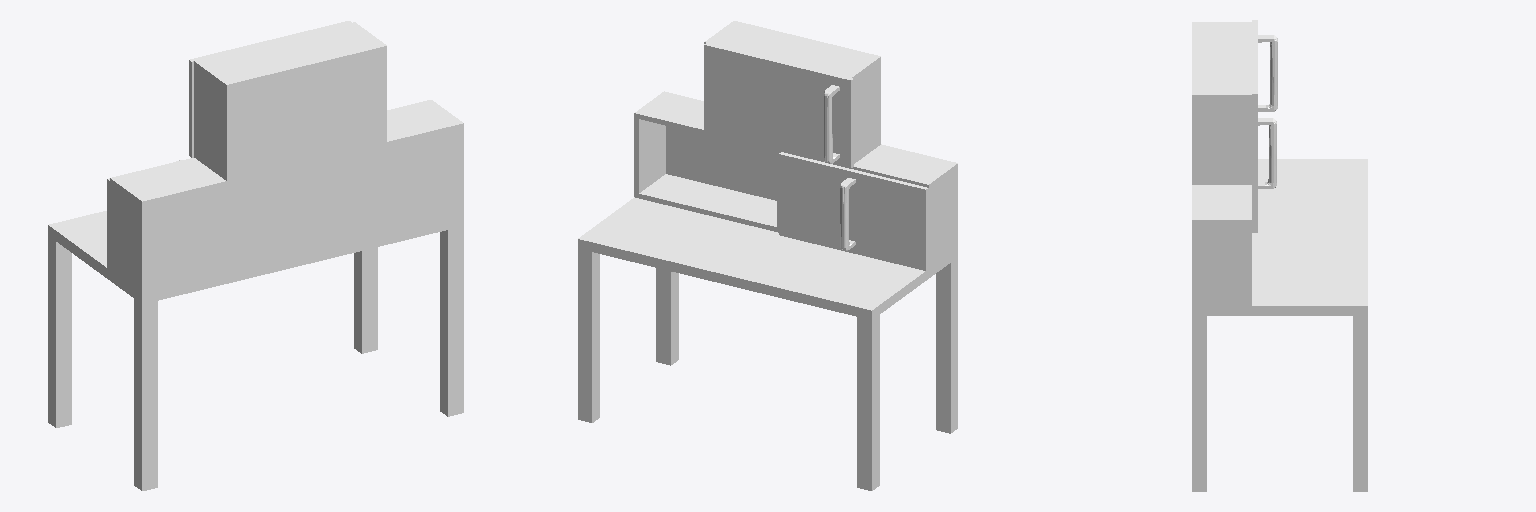
URDF robot description (table):
<?xml version="1.0" ?>
<robot name="table">
<!-- The table -->
 <link name="baseLink">
   <contact>
     <lateral_friction value="0.5"/>
   </contact>
   <inertial>
     <origin rpy="0 0 0" xyz="0.425016 0.151115 0.615396"/>
      <mass value="0.0"/>
      <inertia ixx="0.003734" ixy="0.000094" ixz="-0.000492" iyy="0.006571" iyz="0.000494" izz="0.004455"/>
   </inertial>
   <visual>
     <origin rpy="0 0 0" xyz="0 0 0"/>
     <geometry>
       <mesh filename="table.obj" scale="1.0 1.0 1.0"/>
     </geometry>
      <material name="white">
       <color rgba="1 1 1 1"/>
     </material>
   </visual>
   <collision>
     <origin rpy="0 0 0" xyz="0 0 0"/>
     <geometry>
       <mesh filename="table_vhacd2.obj" scale="1.0 1.0 1.0"/>
     </geometry>
   </collision>
 </link>

<!-- The top left shelf -->
  <link name="top_left_table">
   <contact>
     <lateral_friction value="0.5"/>
   </contact>
   <inertial>
     <origin rpy="0 0 0" xyz="1.055672 0.164149 1.203366"/>
      <mass value="1.0"/>
      <inertia ixx="0.000758" ixy="-0.000002" ixz="0.000002" iyy="0.001665" iyz="-0.000003" izz="0.001678"/>
   </inertial>
   <visual>
     <origin rpy="0 0 0" xyz="0 0 0"/>
     <geometry>
       <mesh filename="top_left_shelf.obj" scale="1.0 1.0 1.0"/>
     </geometry>
      <material name="white">
       <color rgba="1 1 1 1"/>
     </material>
   </visual>
   <collision>
     <origin rpy="0 0 0" xyz="0 0 0"/>
     <geometry>
       <mesh filename="top_left_shelf_vhacd2.obj" scale="1.0 1.0 1.0"/>
     </geometry>
   </collision>
 </link>


<!-- Top left door-->
  <link name="leftTopDoor">
   <contact>
     <lateral_friction value="0.5"/>
   </contact>
   <inertial>
     <origin rpy="0 0 0" xyz="0.599518 0.211815 0.960029"/>
      <mass value="1.0"/>
      <inertia ixx="0.000006" ixy="0.000000" ixz="-0.000000" iyy="0.000029" iyz="0.000000" izz="0.000024"/>
   </inertial>
   <visual>
     <origin rpy="0 0 0" xyz="-1.26 -0.2 0"/>
     <geometry>
       <mesh filename="top_left_door_round_big_handle.obj" scale="1.0 1.0 1.0"/>
     </geometry>
      <material name="white">
       <color rgba="1 1 1 1"/>
     </material>
   </visual>
   <collision>
     <origin rpy="0 0 0" xyz="-1.26 -0.2 0"/>
     <geometry>
       <mesh filename="top_left_door_round_big_handle_vhacd2.obj" scale="1.0 1.0 1.0"/>
     </geometry>
   </collision>
 </link>

<!-- Revolute link between the top left door and the top left shelf -->
   <joint name="top_left_door_joint" type="revolute">
    <origin rpy="0 0 0" xyz="0.95 0.2 0"/>
    <parent link="baseLink"/>
    <child link="leftTopDoor"/>
    <dynamics damping="1.0" friction="0.5"/>
    <limit effort="500" lower="0.0" upper="1.7453292519943" velocity="3.0"/>
    <axis xyz="0 0 -1"/>
  </joint>

<!-- bottom right shelf -->
   <link name="bottom_right_table">
   <contact>
     <lateral_friction value="0.5"/>
   </contact>
   <inertial>
     <origin rpy="0 0 0" xyz="0.355063 0.161921 0.899693"/>
      <mass value="1.0"/>
      <inertia ixx="0.000715" ixy="-0.000003" ixz="0.000000" iyy="0.001669" iyz="0.000001" izz="0.001690"/>
   </inertial>
   <visual>
     <origin rpy="0 0 0" xyz="0 0 0"/>
     <geometry>
       <mesh filename="bottom_right_shelf.obj" scale="1.0 1.0 1.0"/>
     </geometry>
      <material name="white">
       <color rgba="1 1 1 1"/>
     </material>
   </visual>
   <collision>
     <origin rpy="0 0 0" xyz="0 0 0"/>
     <geometry>
       <mesh filename="bottom_right_shelf_vhacd2.obj" scale="1.0 1.0 1.0"/>
     </geometry>
   </collision>
 </link>

<!-- sliding door -->
  <link name="slideDoor">
   <contact>
     <lateral_friction value="0.5"/>
   </contact>
   <inertial>
     <origin rpy="0 0 0" xyz="0.205081 0.211543 0.749504"/>
      <mass value="1.0"/>
      <inertia ixx="0.000008" ixy="-0.000000" ixz="0.000000" iyy="0.000036" iyz="0.000000" izz="0.000028"/>
   </inertial>
   <visual>
     <origin rpy="0 0 0" xyz="0 0 0"/>
     <geometry>
       <mesh filename="sliding_door_round_big_handle.obj" scale="1.0 1.0 1.0"/>
     </geometry>
      <material name="white">
       <color rgba="1 1 1 1"/>
     </material>
   </visual>
   <collision>
     <origin rpy="0 0 0" xyz="0 0 0"/>
     <geometry>
       <mesh filename="sliding_door_round_big_handle_vhacd2.obj" scale="1.0 1.0 1.0"/>
     </geometry>
   </collision>
 </link>

<!-- bottom left shelf-->
 <link name="bottom_left_table">
   <contact>
     <lateral_friction value="0.5"/>
   </contact>
   <inertial>
     <origin rpy="0 0 0" xyz="1.055605 0.164137 0.903363"/>
      <mass value="1.0"/>
      <inertia ixx="0.000758" ixy="-0.000002" ixz="0.000002" iyy="0.001665" iyz="-0.000003" izz="0.001678"/>
   </inertial>
   <visual>
     <origin rpy="0 0 0" xyz="0 0 0"/>
     <geometry>
       <mesh filename="bottom_left_shelf.obj" scale="1.0 1.0 1.0"/>
     </geometry>
      <material name="white">
       <color rgba="1 1 1 1"/>
     </material>
   </visual>
   <collision>
     <origin rpy="0 0 0" xyz="0 0 0"/>
     <geometry>
       <mesh filename="bottom_left_shelf_vhacd2.obj" scale="1.0 1.0 1.0"/>
     </geometry>
   </collision>
 </link>

<!-- joint connecting the slide door with the (bottom right) shelf-->
  <joint name="slide_door_joint" type="prismatic">
    <origin rpy="0 0 0" xyz="0 0 0"/>
    <parent link="bottom_right_table"/>
    <child link="slideDoor"/>
    <dynamics damping="1.0" friction="0.5"/>
    <limit effort="500" lower="0.0" upper="0.7" velocity="3.0"/>
    <axis xyz="0.9 0 0"/>
  </joint>


<!-- fixed links to connect the shelfs with the base of the playtable-->
 <joint name="bottom_left_shelf_2_base" type="fixed">
   <origin xyz="0.0 0.0 0.0" rpy="0.0 0.0 0.0"/>
   <parent link="baseLink"/>
   <child link="bottom_left_table"/>
 </joint>

 <joint name="bottom_right_shelf_2_base" type="fixed">
   <origin xyz="0.0 0.0 0.0" rpy="0.0 0.0 0.0"/>
   <parent link="baseLink"/>
   <child link="bottom_right_table"/>
 </joint>

 <joint name="top_left_shelf_2_base" type="fixed">
   <origin xyz="-0.30 0.0 0.0" rpy="0.0 0.0 0.0"/>
   <parent link="baseLink"/>
   <child link="top_left_table"/>
 </joint>

  <!-- Dummy Links -->
  <joint name="leftTopDoor__topDoorHandle" type="fixed">
    <origin rpy="0 0 0" xyz="-0.55 0.09 1.25"/>
    <parent link="leftTopDoor"/>
    <child link="topDoorHandle"/>
  </joint>

	<link name="topDoorHandle">
		<inertial>
      <origin rpy="0 0 0" xyz="0 0 0"/>
      <mass value="0"/>
      <inertia ixx="1" ixy="0" ixz="0" iyy="1" iyz="0" izz="1"/>
    </inertial>
	</link>
</robot>

--- What the picture shows (computed from the rendered views, not written in the file) ---
Views: 3 orthographic renders of the robot side by side, from view 1: azimuth 30°, elevation 25°; view 2: azimuth 150°, elevation 25°; view 3: azimuth 270°, elevation 25°.
Robot: table — 7 links, 6 joints (1 revolute, 1 prismatic, 4 fixed); root link baseLink; default pose: all joints at 0.
Visible links, largest first — view 1: top_left_table, baseLink, bottom_right_table, bottom_left_table, leftTopDoor; view 2: baseLink, bottom_left_table, leftTopDoor, slideDoor, top_left_table, bottom_right_table; view 3: baseLink, top_left_table, bottom_left_table, leftTopDoor, slideDoor.
Link boxes in pixels (left/top/right/bottom): top_left_table: left=194, top=22, right=386, bottom=180; baseLink: left=48, top=211, right=463, bottom=490; bottom_right_table: left=110, top=158, right=302, bottom=293; bottom_left_table: left=303, top=100, right=463, bottom=254; leftTopDoor: left=189, top=21, right=351, bottom=157; baseLink: left=578, top=197, right=957, bottom=490; bottom_left_table: left=634, top=91, right=780, bottom=232; leftTopDoor: left=704, top=43, right=853, bottom=167; slideDoor: left=779, top=152, right=928, bottom=270; top_left_table: left=704, top=21, right=880, bottom=163; bottom_right_table: left=784, top=144, right=957, bottom=268; baseLink: left=1192, top=159, right=1367, bottom=491; top_left_table: left=1192, top=22, right=1251, bottom=184; bottom_left_table: left=1192, top=185, right=1251, bottom=305; leftTopDoor: left=1252, top=20, right=1277, bottom=183; slideDoor: left=1252, top=118, right=1276, bottom=232.
Bounding box of the posed robot: 1.26 × 0.64 × 1.45 m (x, y, z).
Meshes: 6 distinct files referenced, 6 mesh visuals loaded (6 OBJ).